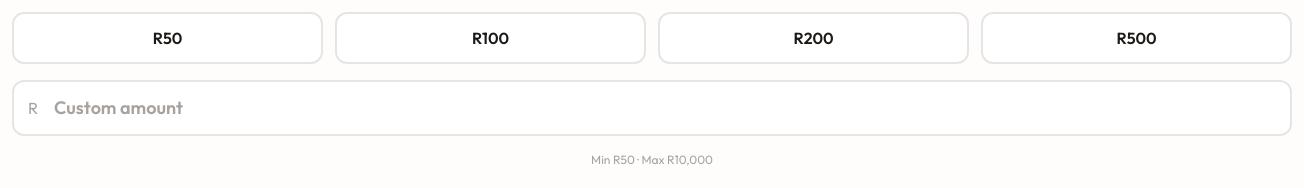
Test: AmountSelector component › shows error when amount is below minimum
Type "10" into the field with placeholder "Custom amount". click: [652, 108]
box: [12, 80, 1292, 136]
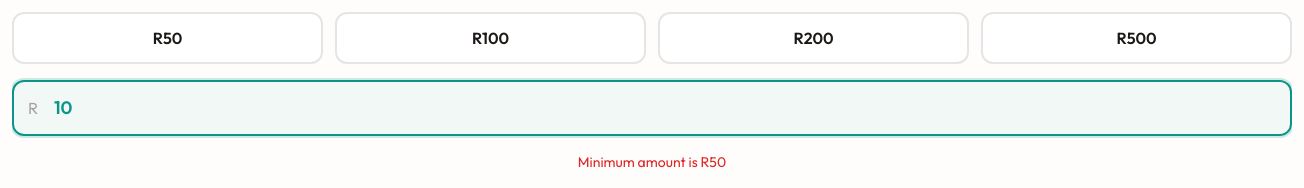
Expected: the message reads "Minimum amount is R50", [578, 153, 726, 171]
